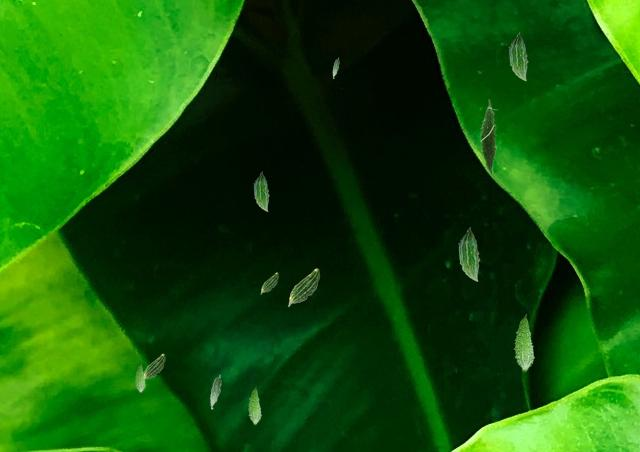ampalaya: (478, 98, 499, 175), (513, 313, 535, 372), (287, 268, 320, 307), (458, 227, 480, 282), (508, 32, 528, 81), (253, 171, 269, 212), (247, 386, 262, 425), (144, 353, 165, 378), (209, 374, 221, 409), (260, 272, 279, 294), (134, 362, 146, 393), (332, 57, 339, 79)
